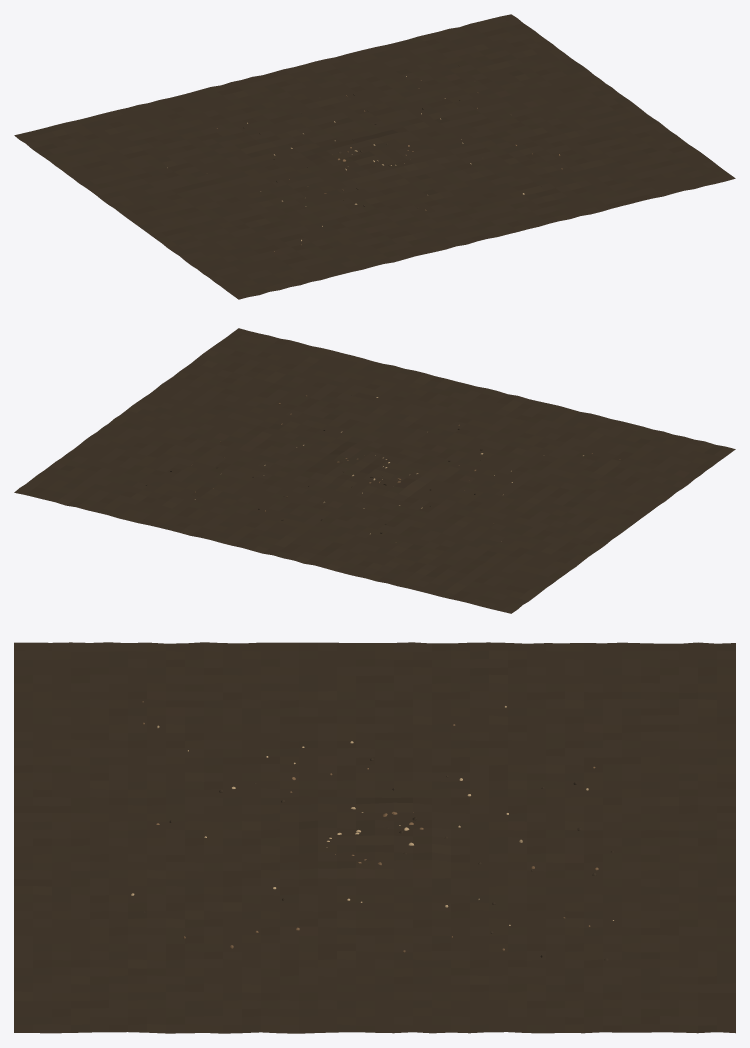
File: dirt.gltf
3 renders of one model, top to bottom at view 1: azimuth 30°, elevation 25°; view 2: azimuth 150°, elevation 25°; view 3: azimuth 270°, elevation 25°, orthographic. The views are drawn at different scales.
Visible parts, largest first — view 1: SOIL_irregular_ground_surface; view 2: SOIL_irregular_ground_surface; view 3: SOIL_irregular_ground_surface.
Boxes of the visible parts, box(x1,y1,x2,y2) form: SOIL_irregular_ground_surface: box(14, 14, 735, 299); SOIL_irregular_ground_surface: box(14, 328, 735, 613); SOIL_irregular_ground_surface: box(14, 642, 735, 1033).
Size of what is drawn, in the model's own units: 24.48 by 0.1382 by 19.16.
